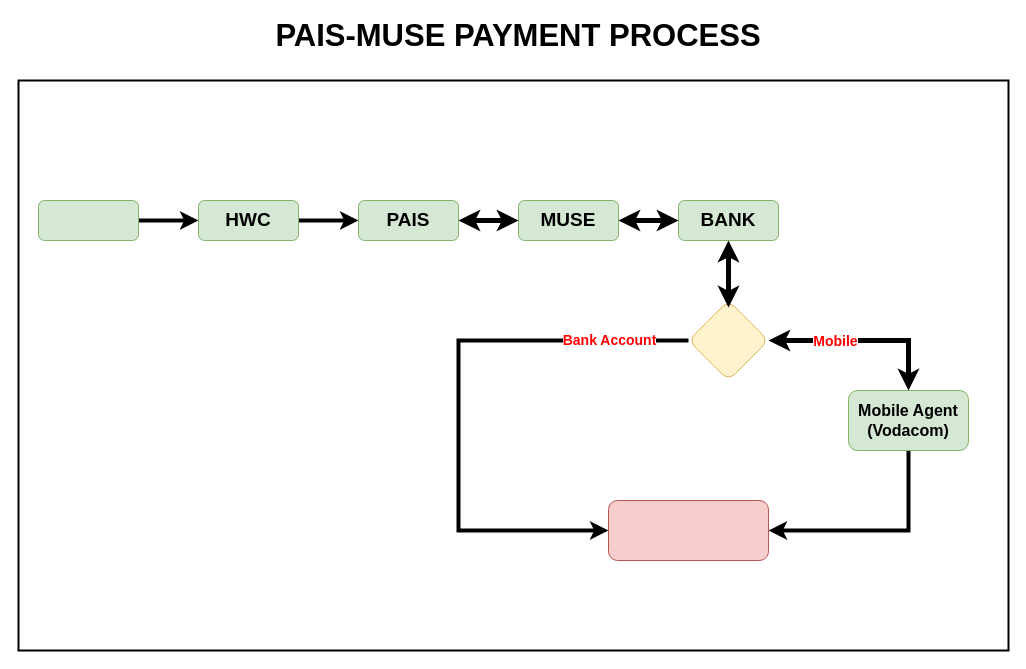
Some shapes in this 1026 by 669 pixel diagram are drawn without their labels. The shapes that lost their labels are listed below. From the top down, each one's centre as x and y in pixels, then its label:
the point at 88,220: DGO
the point at 728,340: Payment Options
the point at 688,530: Claimant Receive Payment
